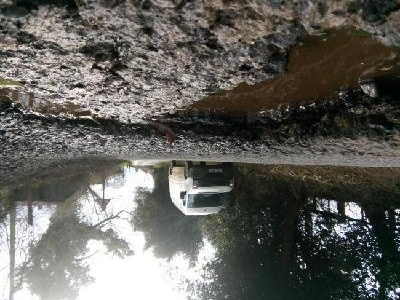pothole: (0, 15, 400, 144)
